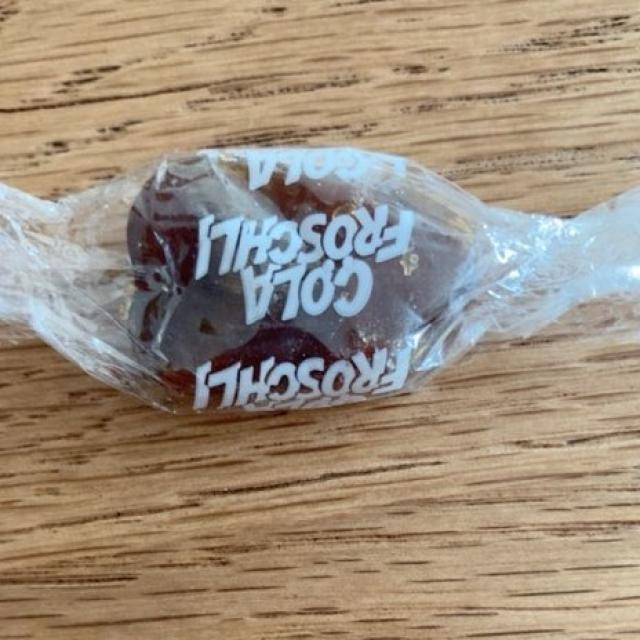candy: (129, 155, 517, 410)
